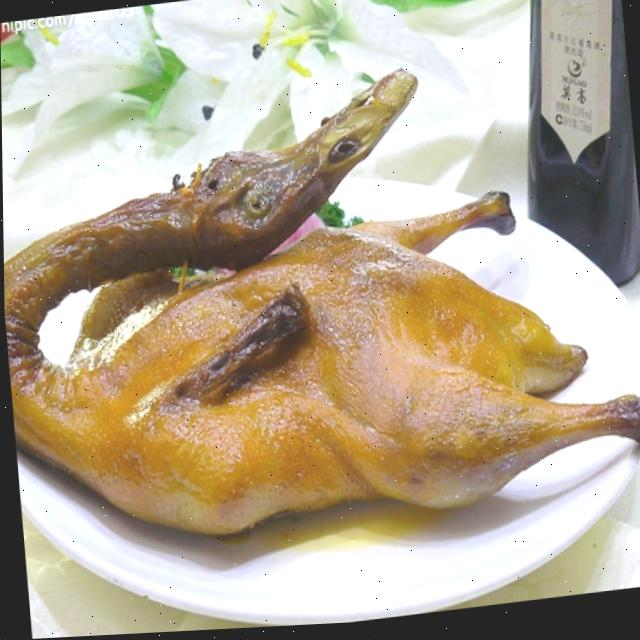烧串烤肉: (1, 18, 640, 574)
